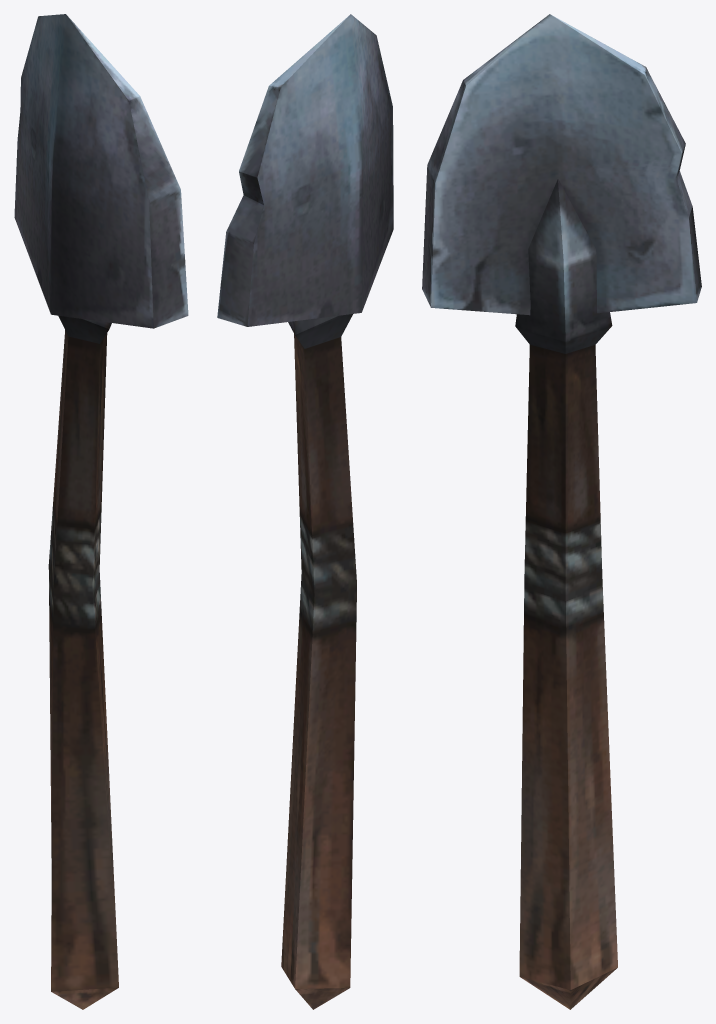
The model's file is mine_shovel.fbx.
3 renders of one model, left to right at view 1: azimuth 30°, elevation 25°; view 2: azimuth 150°, elevation 25°; view 3: azimuth 270°, elevation 25°, orthographic. The views are drawn at different scales.
Parts seen in each view (by area): view 1: Material_#107; view 2: Material_#107; view 3: Material_#107.
Part boxes in pixels (bbox=[...]): Material_#107: bbox=[14, 14, 188, 1009]; Material_#107: bbox=[217, 14, 393, 1009]; Material_#107: bbox=[422, 14, 701, 1009].
Size of the model in its own units: 0.1596 by 1.96 by 0.5061.
